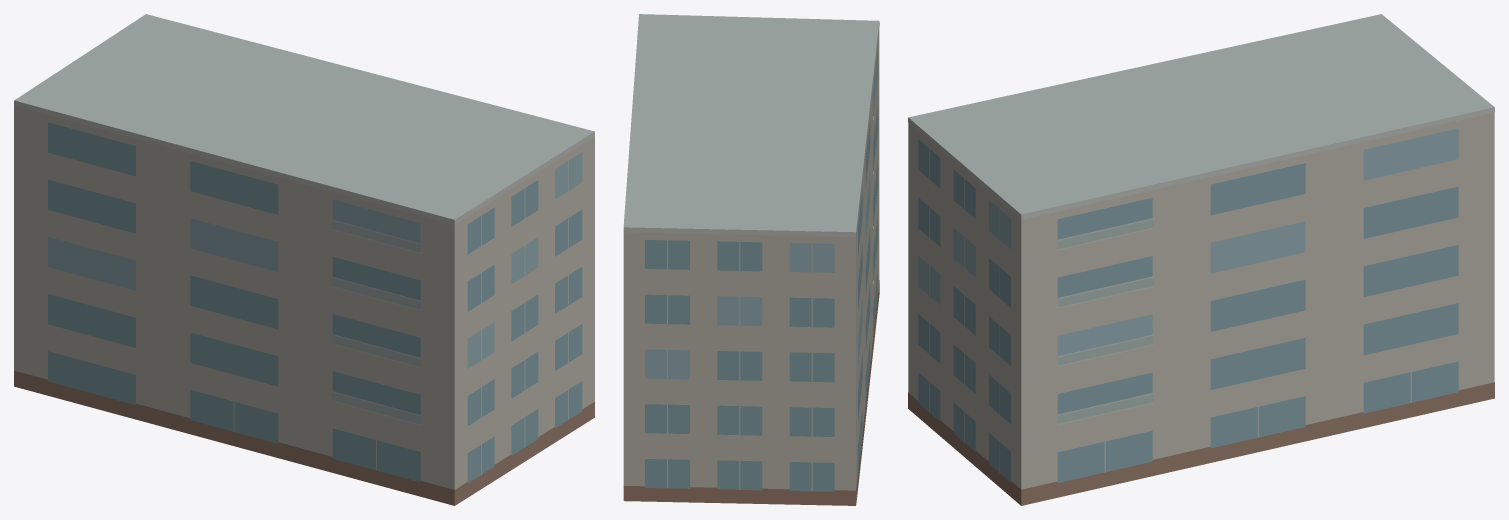
The model's file is survey-upis-32840243.glb.
3 views of the same model, side by side, from view 1: azimuth 30°, elevation 25°; view 2: azimuth 150°, elevation 25°; view 3: azimuth 270°, elevation 25° (orthographic). The views are drawn at different scales.
Parts seen in each view (by area): view 1: survey-upis-32840243.tmp; view 2: survey-upis-32840243.tmp; view 3: survey-upis-32840243.tmp.
Boxes of the visible parts, x1,y1,x2,y2 form: survey-upis-32840243.tmp: (14,14,594,505); survey-upis-32840243.tmp: (623,14,879,505); survey-upis-32840243.tmp: (908,14,1494,505).
Size of the model in its own units: 20.1 by 13.6 by 24.83.
